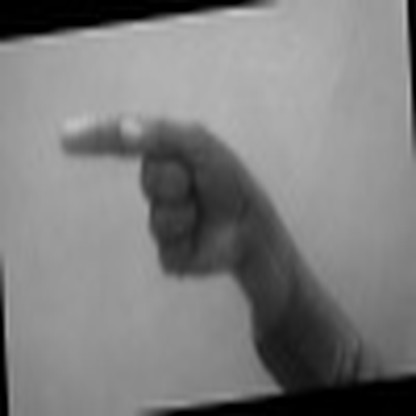g: (42, 102, 253, 282)
